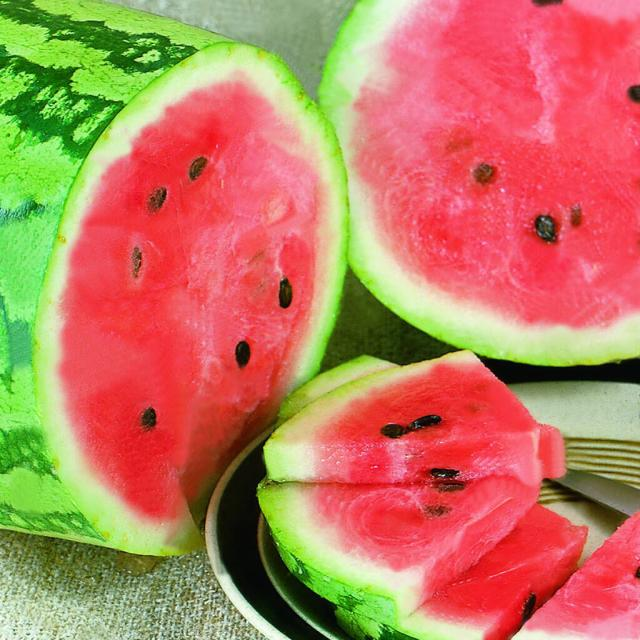Watermelon: (320, 0, 638, 365), (257, 476, 539, 626), (264, 351, 565, 486), (396, 505, 588, 640), (514, 512, 640, 639)
